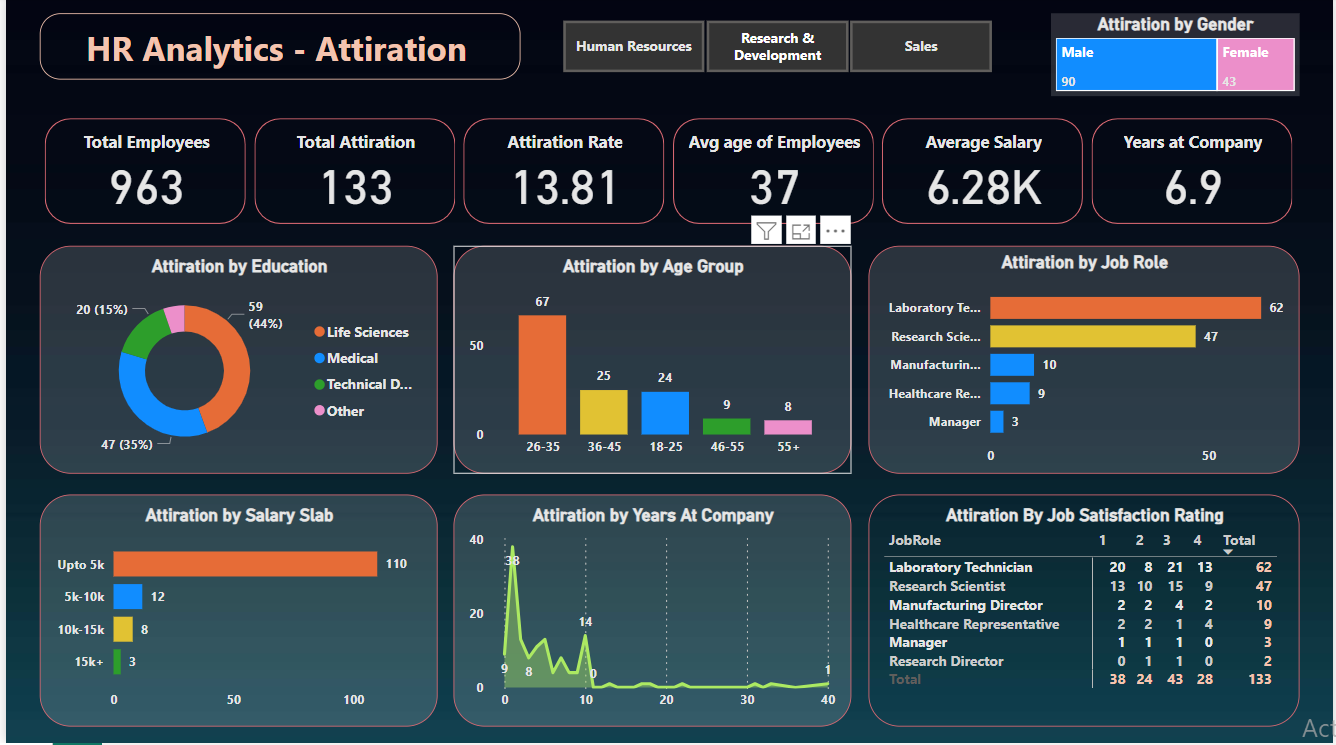

What the dashboard file says about the page in this screenshot:
{"tool":"powerbi","page":{"name":"Page 1","canvas":[1280,720],"ordinal":0},"visuals":[{"type":"cardVisual","fields":{"Data":["Sum(HR_Analytics (1).EmployeeCount)","Sum(HR_Analytics (1).Attiration_Count)","HR_Analytics (1).Attiration_Rate","Avg(HR_Analytics (1).Age)","Avg(HR_Analytics (1).MonthlyIncome)","Avg(HR_Analytics (1).YearsAtCompany)"]},"box":[32,112,1216,112],"z":0},{"type":"donutChart","title":"Attiration by Education","fields":{"Y":["Sum(HR_Analytics (1).Attiration_Count)"],"Category":["HR_Analytics (1).EducationField"]},"box":[32,240,384,220],"z":1000},{"type":"clusteredColumnChart","title":"Attiration by Age Group","fields":{"Y":["Sum(HR_Analytics (1).Attiration_Count)"],"Category":["HR_Analytics (1).AgeGroup"]},"box":[432,240,384,220],"z":2000},{"type":"clusteredBarChart","title":"Attiration by Salary Slab","fields":{"Category":["HR_Analytics (1).SalarySlab"],"Y":["Sum(HR_Analytics (1).Attiration_Count)"]},"box":[32,480,384,224],"z":3000},{"type":"areaChart","title":"Attiration by Years At Company","fields":{"Y":["Sum(HR_Analytics (1).Attiration_Count)"],"Category":["HR_Analytics (1).YearsAtCompany"]},"box":[432,480,384,224],"z":4000},{"type":"clusteredBarChart","title":"Attiration by Job Role","fields":{"Category":["HR_Analytics (1).JobRole"],"Y":["Sum(HR_Analytics (1).Attiration_Count)"]},"box":[832,240,416,220],"z":5000},{"type":"slicer","fields":{"Values":["HR_Analytics (1).Department"]},"box":[512,16,464,64],"z":6000},{"type":"pivotTable","title":"Attiration By Job Satisfaction Rating","fields":{"Rows":["HR_Analytics (1).JobRole"],"Columns":["HR_Analytics (1).JobSatisfaction"],"Values":["Sum(HR_Analytics (1).Attiration_Count)"]},"box":[832,480,416,224],"z":7000},{"type":"treemap","title":"Attiration by Gender","fields":{"Values":["Sum(HR_Analytics (1).Attiration_Count)"],"Group":["HR_Analytics (1).Gender"]},"box":[1008,16,240,80],"z":7001},{"type":"textbox","box":[32,16,464,64],"z":7002}]}

Visuals, with their boxes in screenshot pixels (x1, y1, x2, y2), scaled from the page's 1280x720 canvas onto the 1336x745 screenshot:
cardVisual - Sum(HR_Analytics (1).EmployeeCount) x Sum(HR_Analytics (1).Attiration_Count): rect(33, 116, 1303, 232)
"Attiration by Education" donutChart: rect(33, 248, 434, 476)
"Attiration by Age Group" clusteredColumnChart: rect(451, 248, 852, 476)
"Attiration by Salary Slab" clusteredBarChart: rect(33, 497, 434, 728)
"Attiration by Years At Company" areaChart: rect(451, 497, 852, 728)
"Attiration by Job Role" clusteredBarChart: rect(868, 248, 1303, 476)
slicer - HR_Analytics (1).Department: rect(534, 17, 1019, 83)
"Attiration By Job Satisfaction Rating" pivotTable: rect(868, 497, 1303, 728)
"Attiration by Gender" treemap: rect(1052, 17, 1303, 99)
textbox: rect(33, 17, 518, 83)
